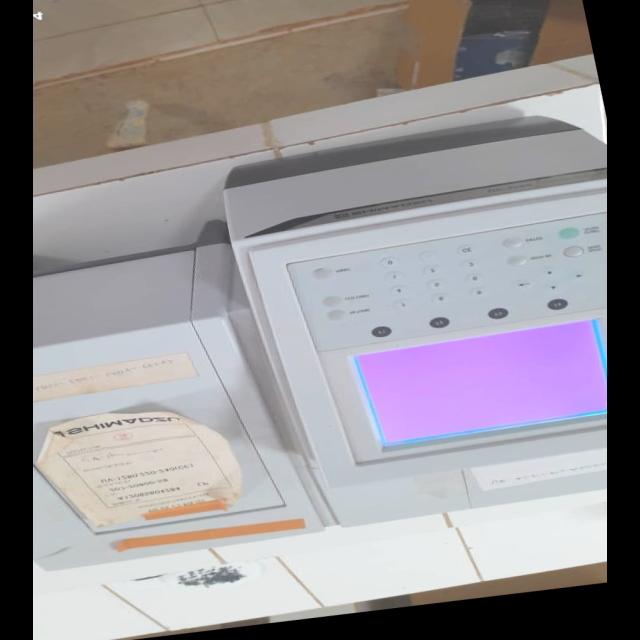Spectrophotometer: (33, 108, 607, 570)
